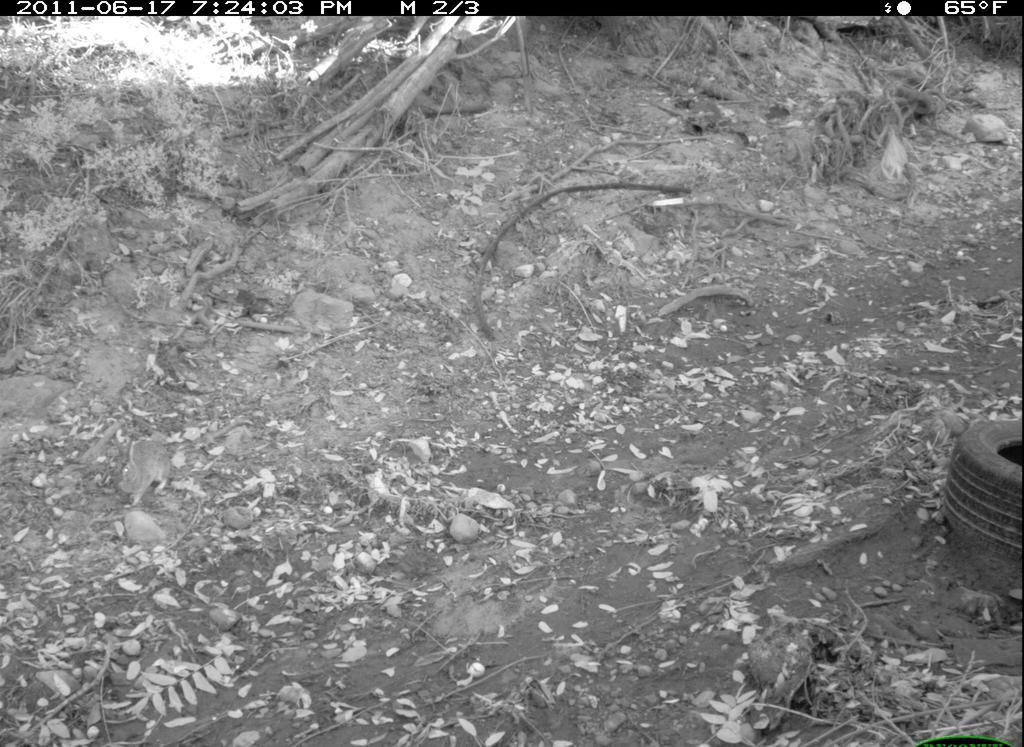rabbit: (99, 417, 182, 502)
